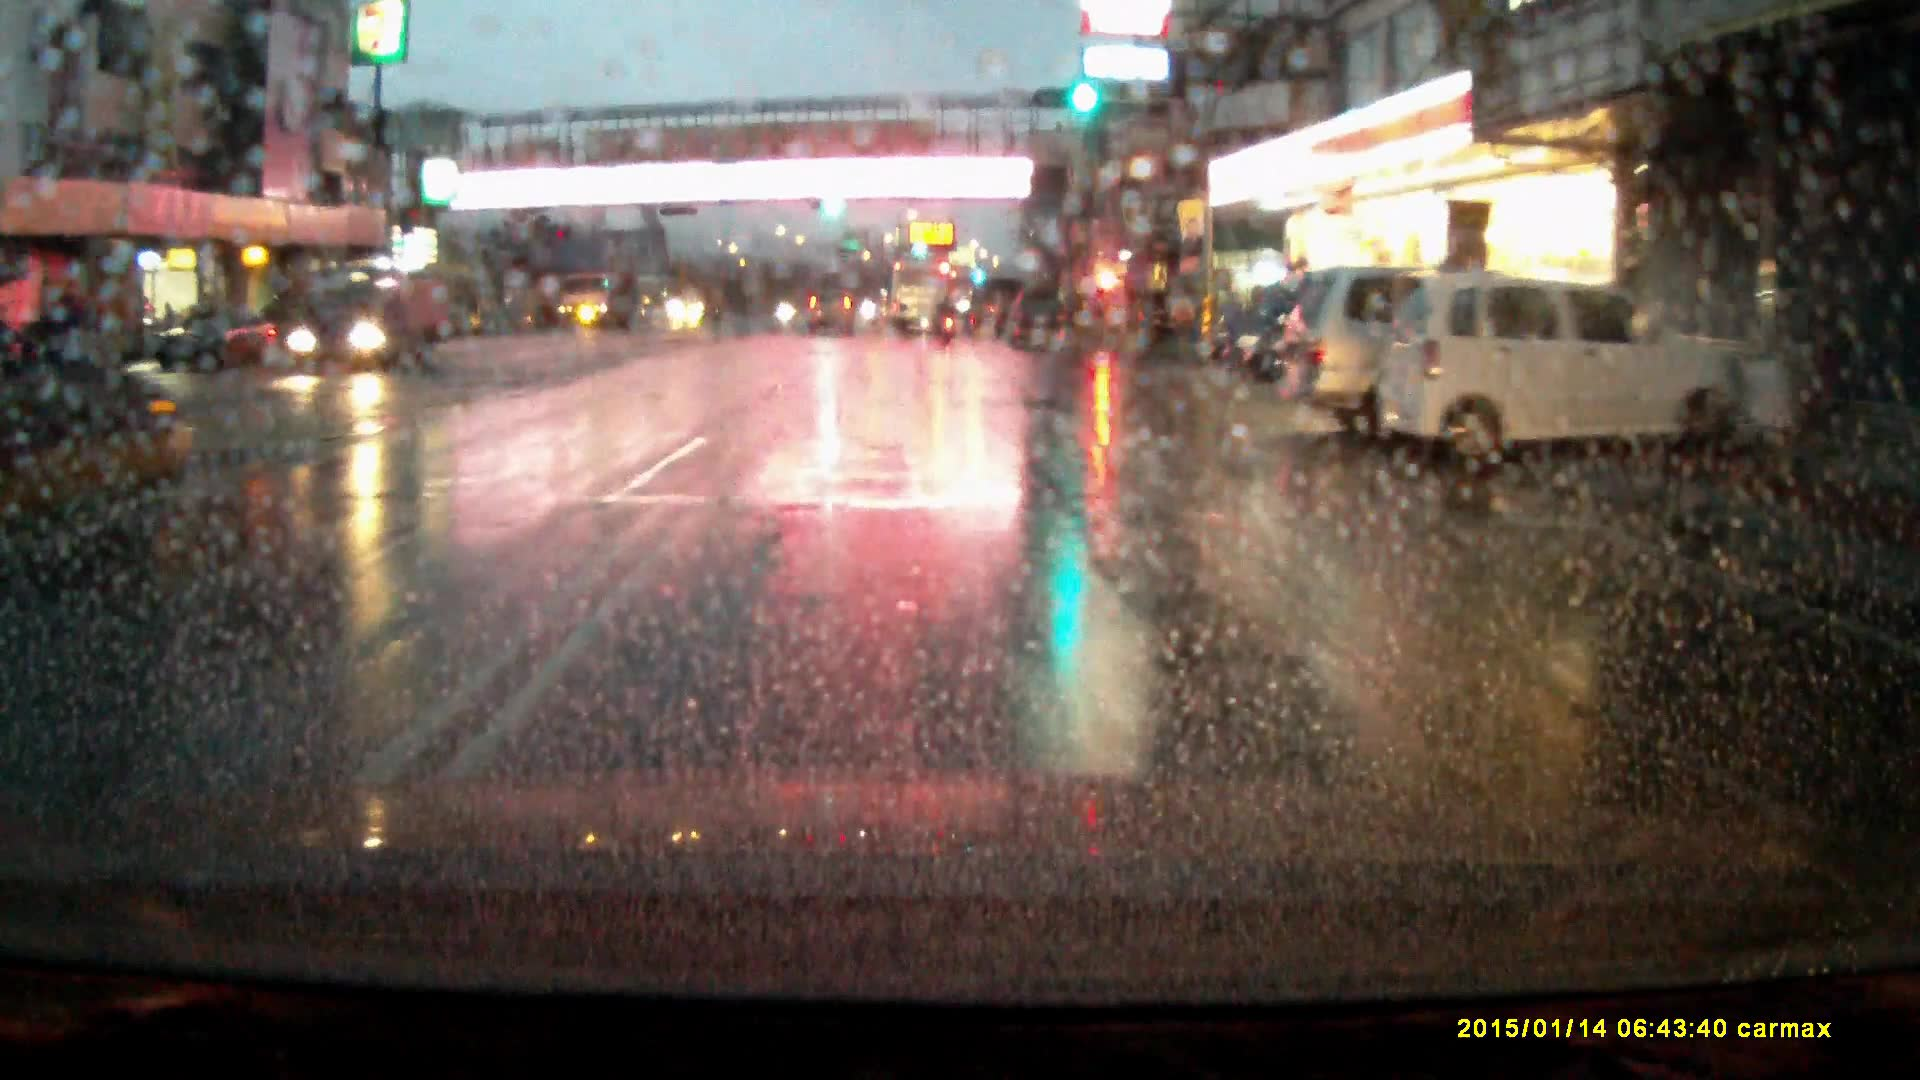rider: (940, 298, 960, 345)
vehicle: (1375, 278, 1754, 474), (1274, 265, 1494, 434), (293, 270, 441, 389), (134, 308, 277, 378), (1003, 286, 1073, 357), (892, 266, 954, 340), (555, 279, 632, 339), (1126, 294, 1199, 353), (668, 286, 726, 336), (805, 301, 858, 351)
